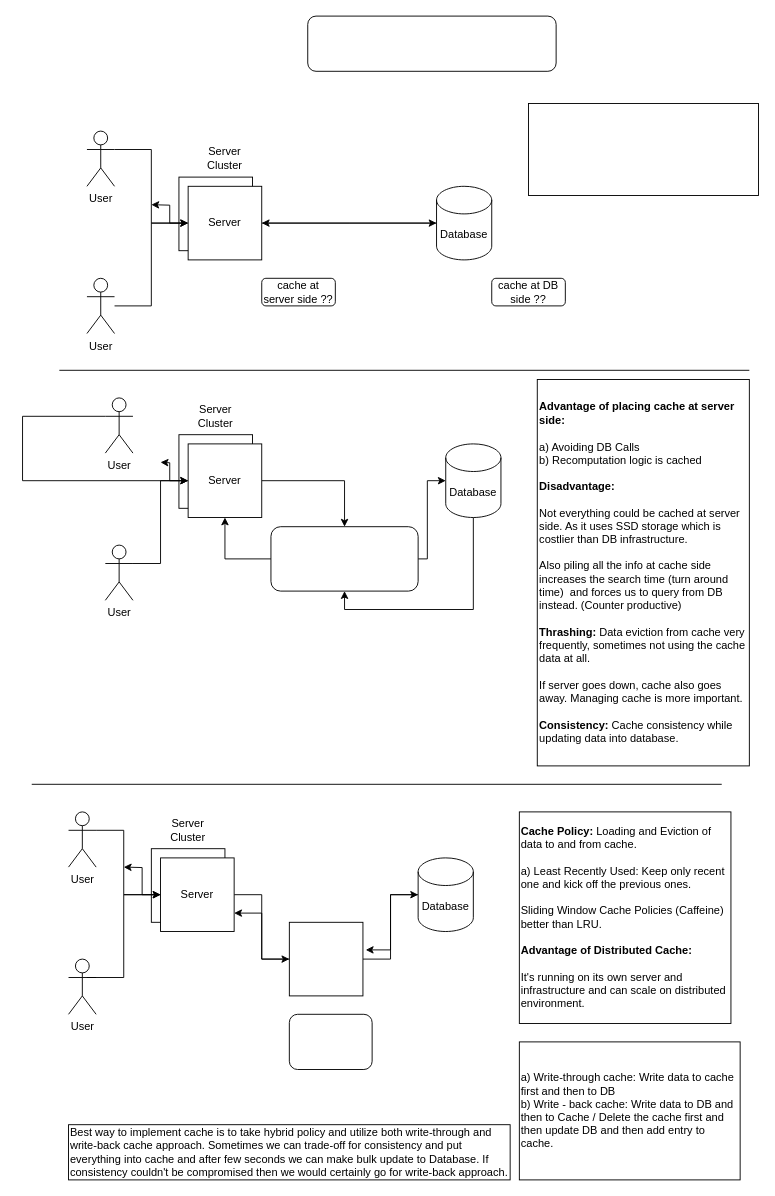
The diagram is 775 pixels wide and 1196 high, and some of its shapes have lost their labels. The shapes that lost their labels are listed below. From the top down, each one's centre as x and y in pixels, then its label:
point (431, 43): Distributed Caching
point (643, 149): Issues: a) Network / DB Calls b) Recomputation c) Reduce DB load
point (344, 558): Placing Cache at server side. In memory Cache (for very small amount of data)
point (325, 958): Global Cache
point (330, 1041): Redis / Distributed Cache
